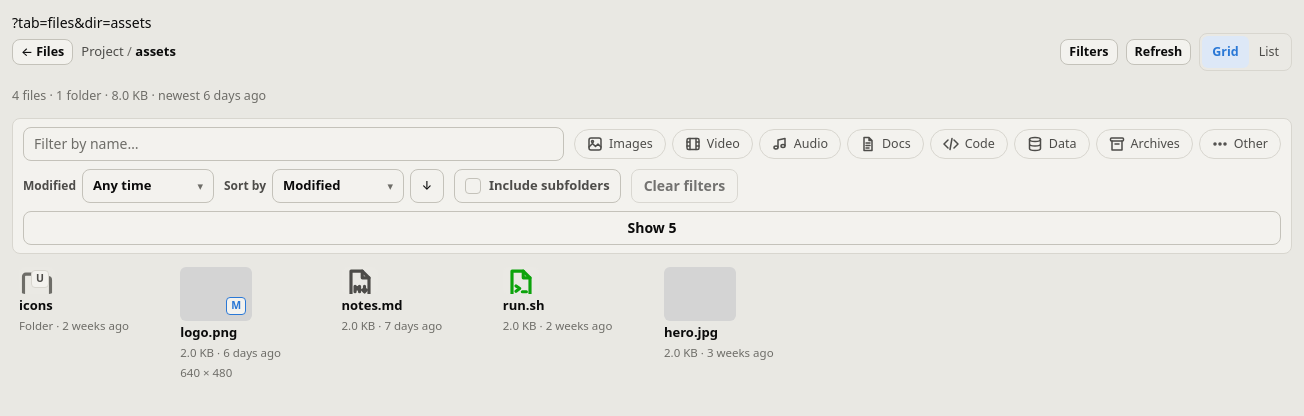
Scenario: FolderView › reads the subfolders too when asked
Expected: the text "4 files · 1 folder · 8.0 KB · newest 6 days ago" is shown, [12, 87, 266, 104]
Click the checkbox labelled "Include subfolders": (537, 186) [454, 169, 621, 203]
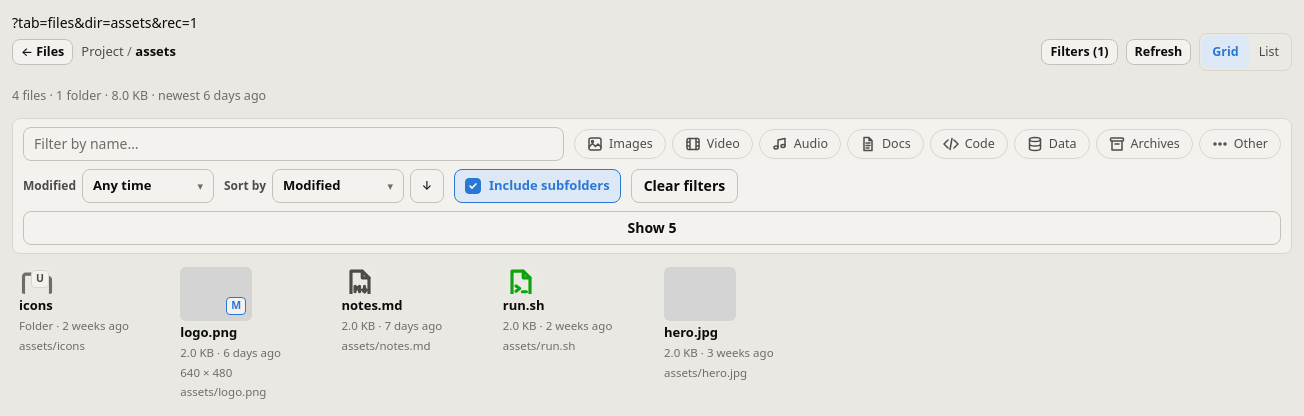
Expected: the text with test id "where" shows "rec=1", [12, 13, 198, 32]
